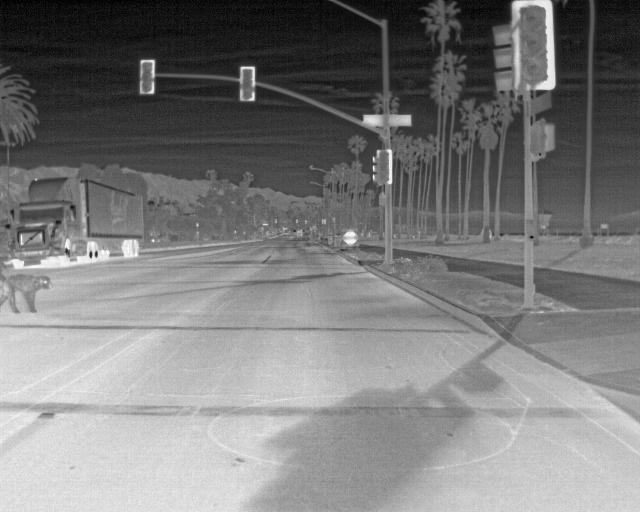dog: (0, 272, 52, 316)
